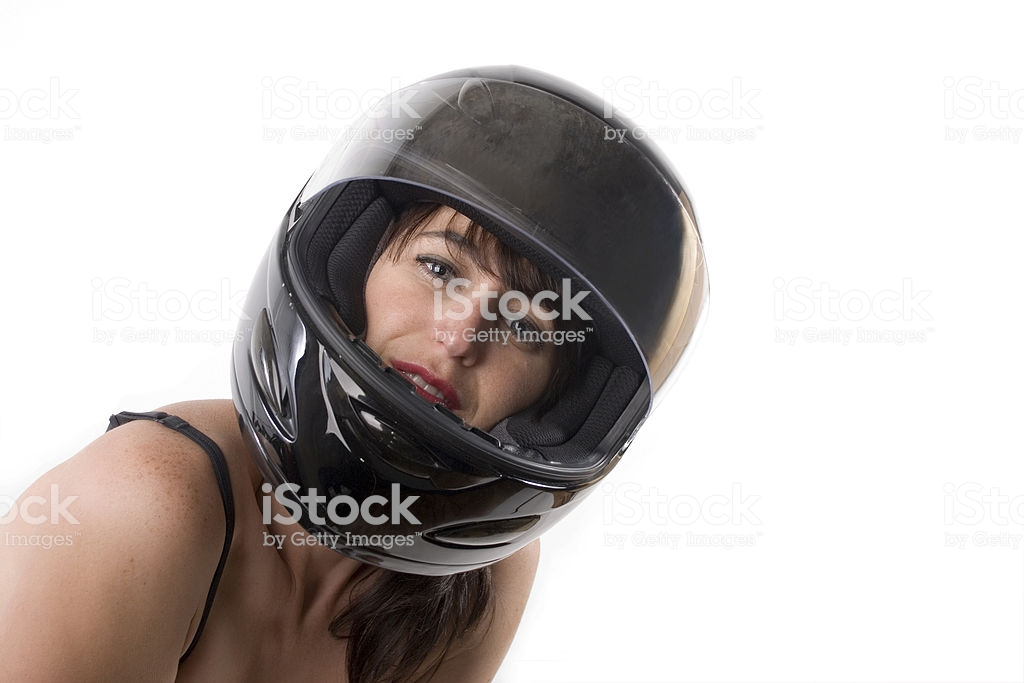helmet: (253, 85, 684, 553)
